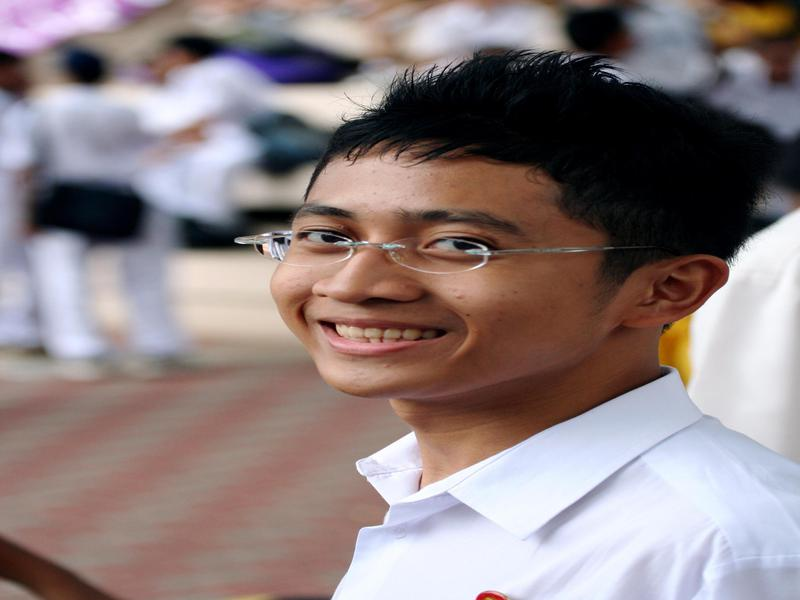person: (242, 37, 798, 600)
